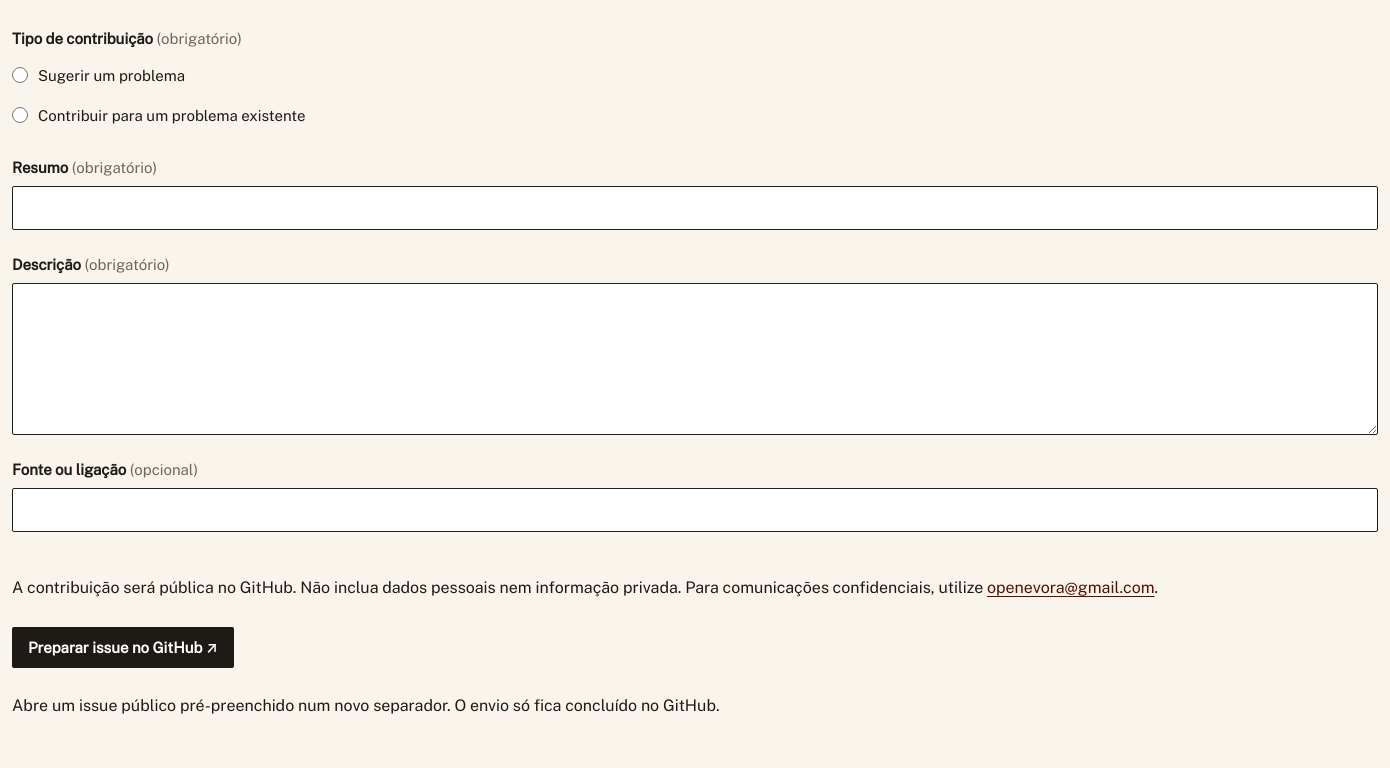
Test: ContributionForm — validation › shows inline errors linked to each missing required field, without opening GitHub or toasting
Click the button "Preparar issue no GitHub ↗". click: (123, 648)
box: [12,627,234,668]
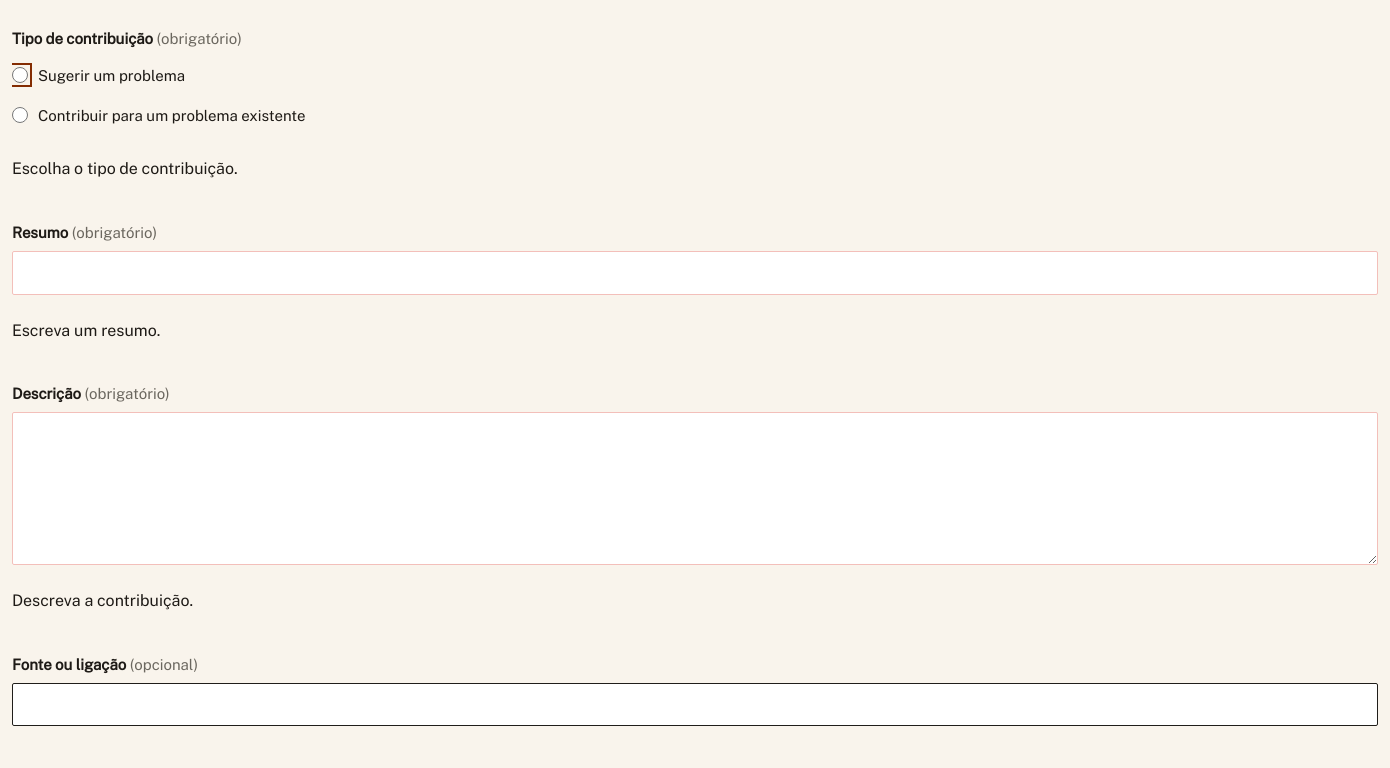
Expected: the text "Escolha o tipo de contribuição." is shown, [12,159,238,178]
